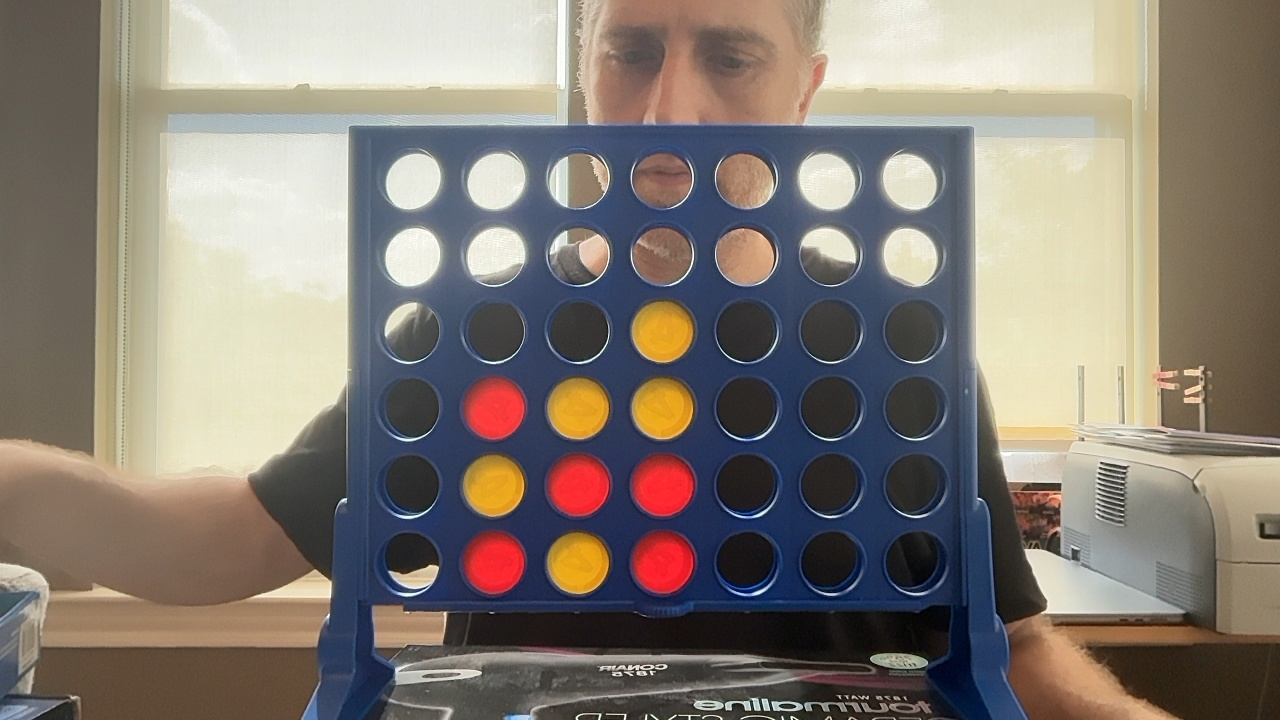red piece: (462, 376, 526, 440), (631, 531, 695, 595), (462, 531, 525, 595), (547, 454, 610, 517), (632, 454, 694, 517)
yellow piece: (632, 300, 694, 363), (547, 377, 610, 439), (631, 377, 694, 439), (463, 455, 525, 517), (547, 532, 609, 594)
